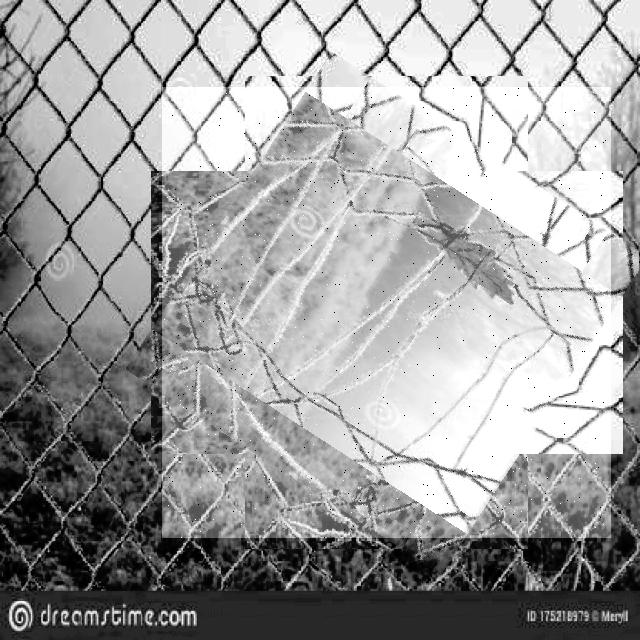anomaly-fence: (162, 87, 611, 538)
